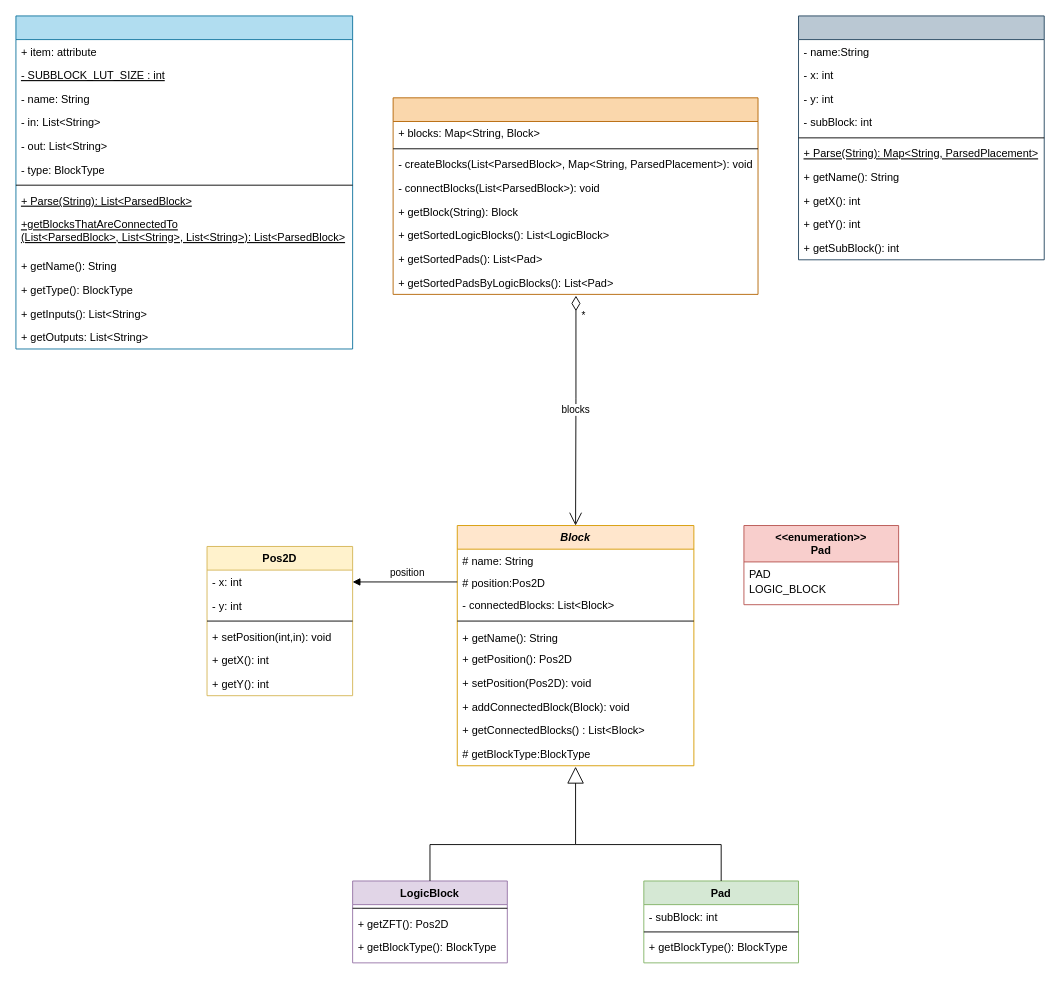
This 1060x982 diagram has some shape labels left out. Each missing label, with the box of its shape:
Graph: (392, 97, 758, 294)
ParsedBlock: (15, 15, 353, 349)
ParsedPlacement: (798, 15, 1044, 260)
